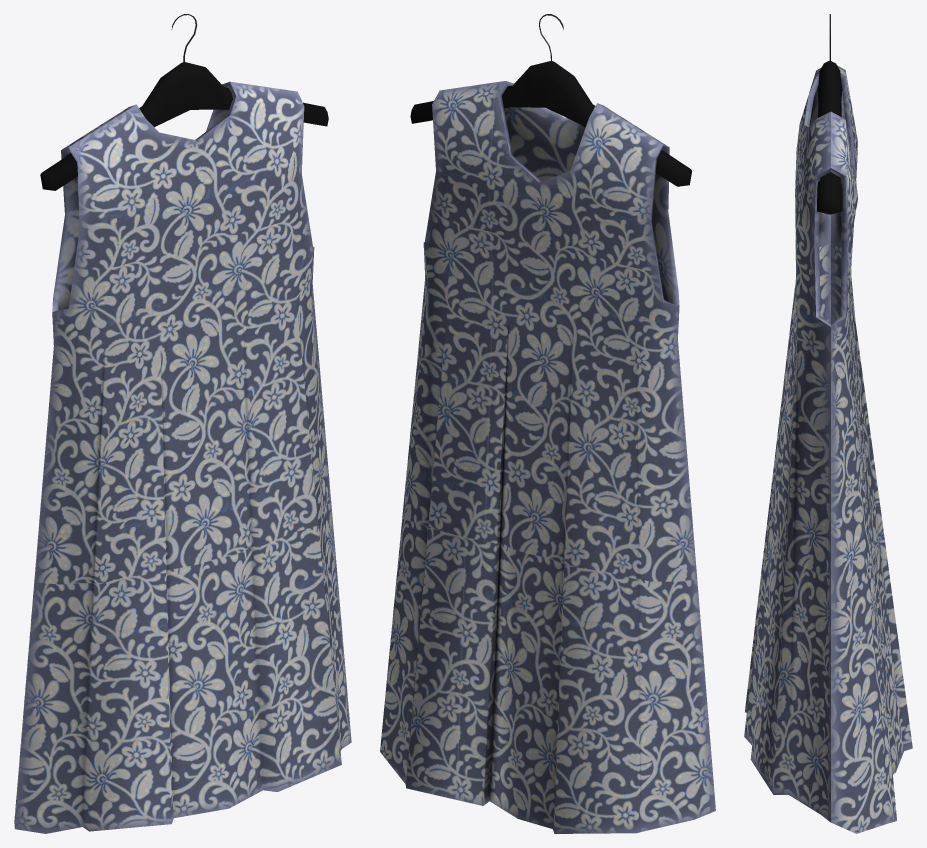
Rendered from dress3.dae.
3 renders of one model, left to right at view 1: azimuth 30°, elevation 25°; view 2: azimuth 150°, elevation 25°; view 3: azimuth 270°, elevation 25°, orthographic. The views are drawn at different scales.
Parts seen in each view (by area): view 1: _3DGeom_1, _3DGeom_2, _3DGeom_1_Defintion_2 (×2); view 2: _3DGeom_1_Defintion_2 (×3), _3DGeom_2; view 3: _3DGeom_1, _3DGeom_1_Defintion_2 (×3), _3DGeom_2.
Part boxes in pixels (x1=…): _3DGeom_1: x1=15, y1=81, x2=351, y2=833; _3DGeom_2: x1=40, y1=62, x2=328, y2=190; _3DGeom_1_Defintion_2 (×2): x1=14, y1=81, x2=313, y2=827; _3DGeom_1_Defintion_2 (×3): x1=380, y1=81, x2=715, y2=833; _3DGeom_2: x1=410, y1=61, x2=691, y2=186; _3DGeom_1: x1=744, y1=68, x2=830, y2=822; _3DGeom_1_Defintion_2 (×3): x1=804, y1=65, x2=912, y2=833; _3DGeom_2: x1=817, y1=60, x2=842, y2=214.
Size of the model in its own units: 7.97 by 3.65 by 18.05.
Materials: 3 (1 with a texture image).
